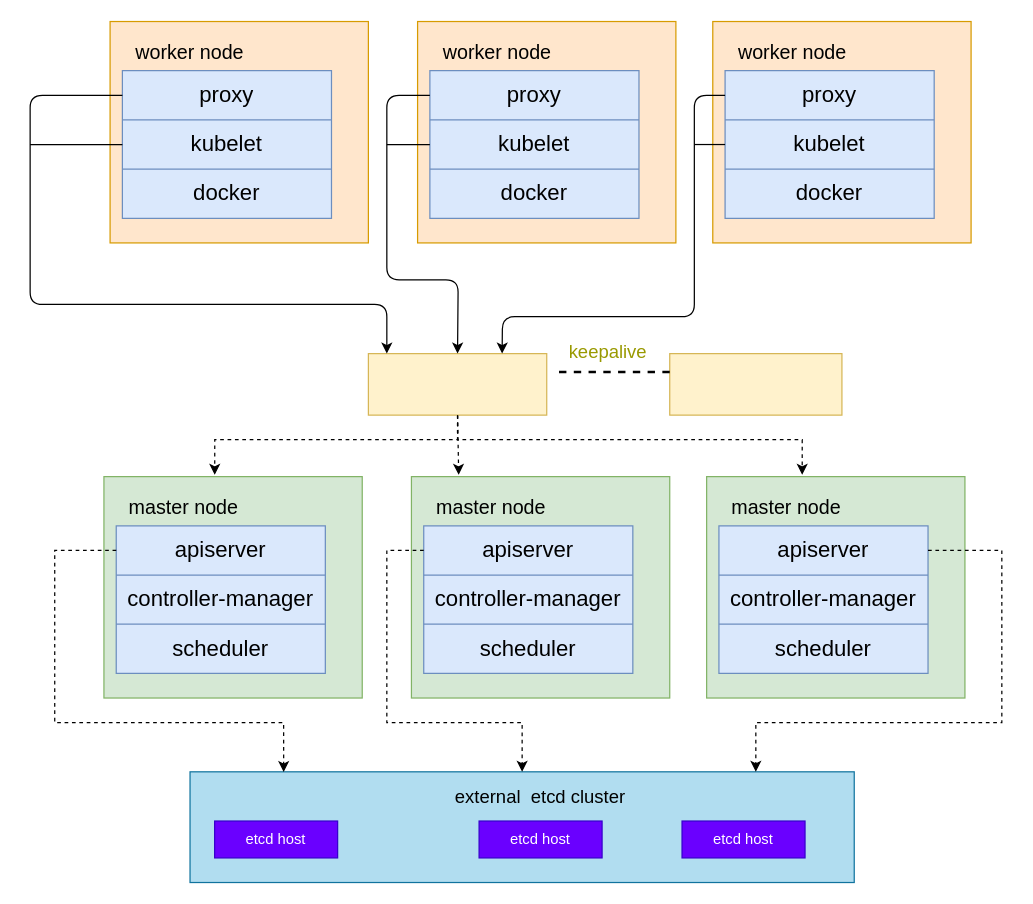
This 1033x904 diagram has some shape labels left out. Each missing label, with the centre of its shape:
"haproxy （backup）" belongs at (755,383).
"VIP haproxy（master）" belongs at (457,383).
